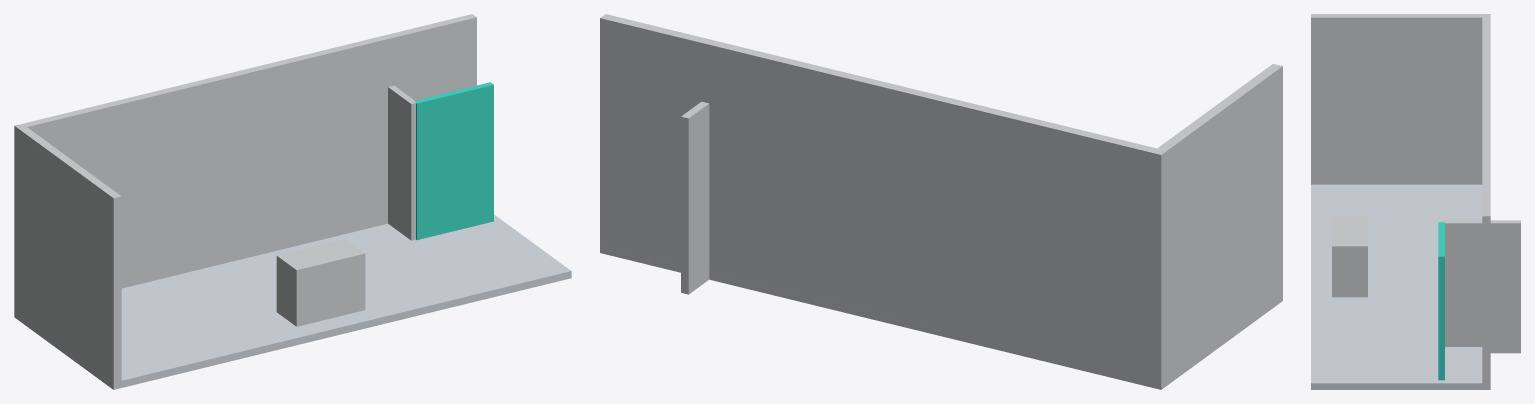
The picture shows the model from 3 angles, left to right: view 1: azimuth 30°, elevation 25°; view 2: azimuth 150°, elevation 25°; view 3: azimuth 270°, elevation 25°; orthographic projection. The views are drawn at different scales.
Parts seen in each view (by area): view 1: Exhibition Booth Concept; view 2: Exhibition Booth Concept; view 3: Exhibition Booth Concept.
Boxes of the visible parts, x1,y1,x2,y2 form: Exhibition Booth Concept: (14,14,571,389); Exhibition Booth Concept: (600,14,1282,389); Exhibition Booth Concept: (1311,14,1520,389).
Bounding box in the file's own units: 8 × 3.2 × 3.51.
